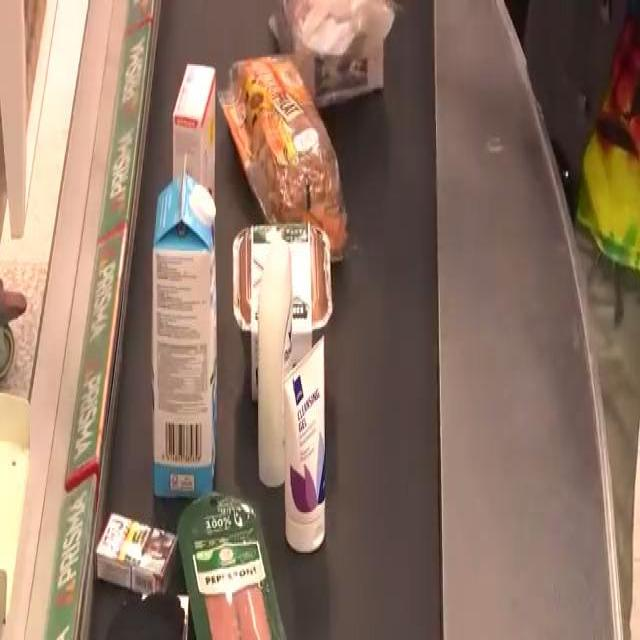beverage: (151, 169, 222, 508)
food-box: (230, 38, 352, 236), (232, 223, 342, 330), (277, 5, 397, 94), (202, 489, 262, 640)
utility-box: (278, 333, 334, 561), (255, 237, 292, 497), (167, 51, 220, 202), (102, 500, 174, 606)
